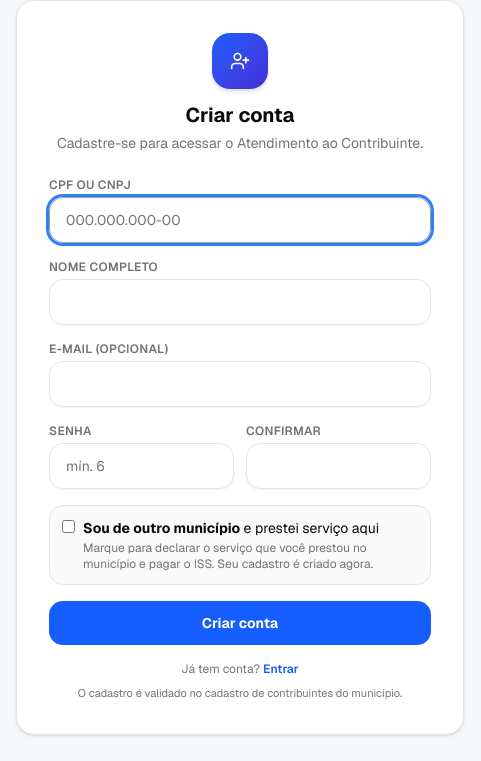
CadastroForm › mostra a mensagem de erro da API quando o documento já está cadastrado
This screenshot has width=481, height=761.
Type "123.456.789-00" into the field with placeholder "000.000.000-00" at (240, 220), box [49, 197, 431, 243]
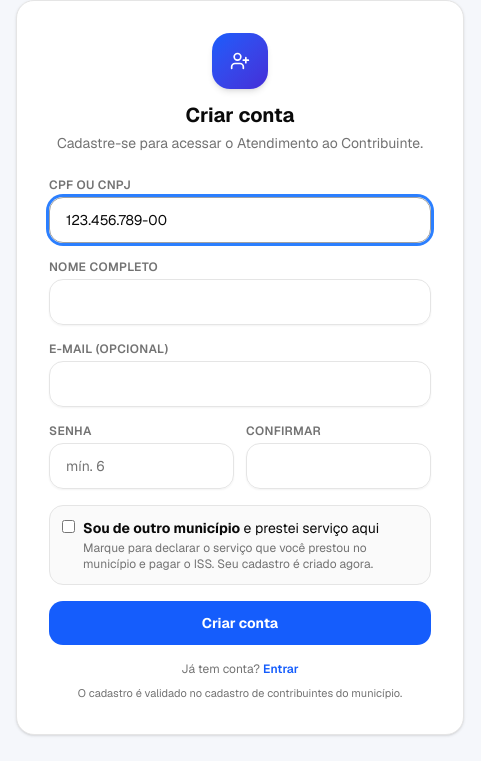
Type "Fulano de Tal" into the field below "Nome completo" at (240, 302), box [49, 279, 431, 325]
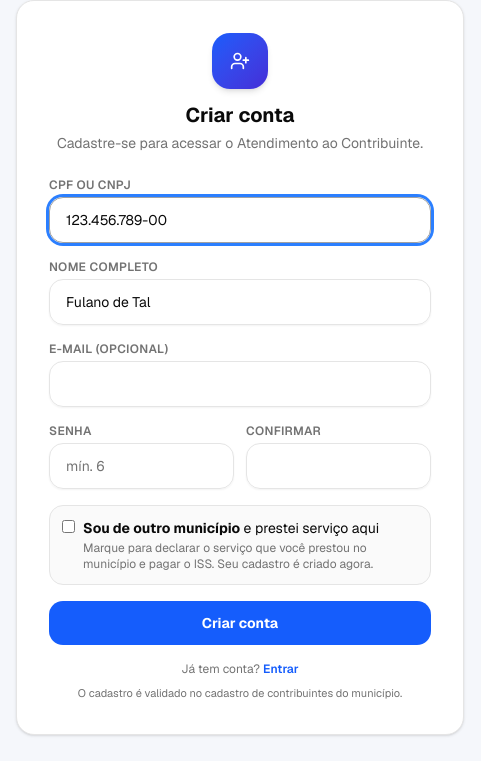
Type "senha123" into the password field with placeholder "mín. 6" at (142, 466), box [49, 443, 234, 489]
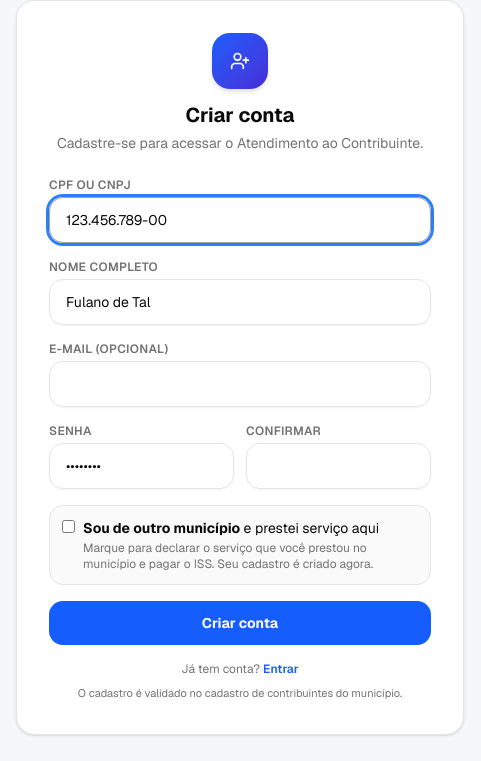
Type "senha123" into the password field named "senha2" below "Confirmar" at (338, 466), box [246, 443, 431, 489]
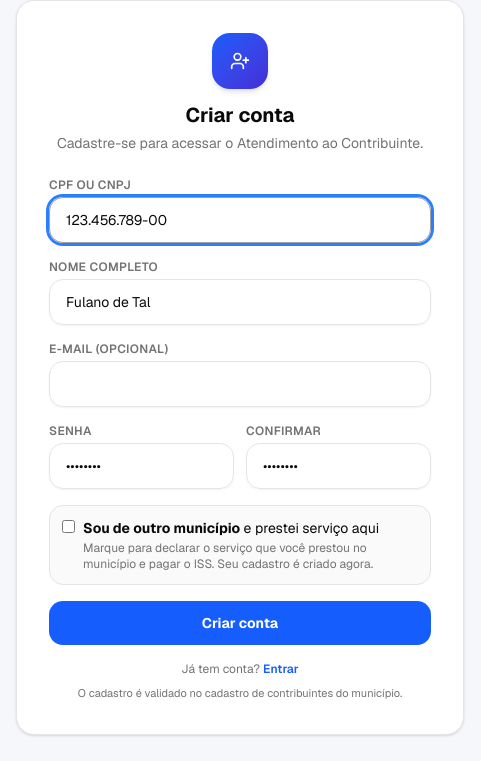
Click the button "Criar conta" at (240, 623), box [49, 601, 431, 645]
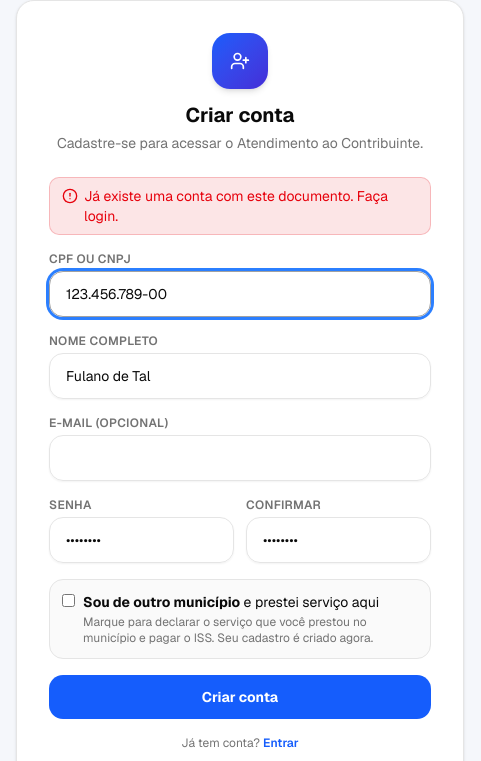
Result: the message reads "Já existe uma conta com este documento. Faça login." at [84, 187, 388, 225]
